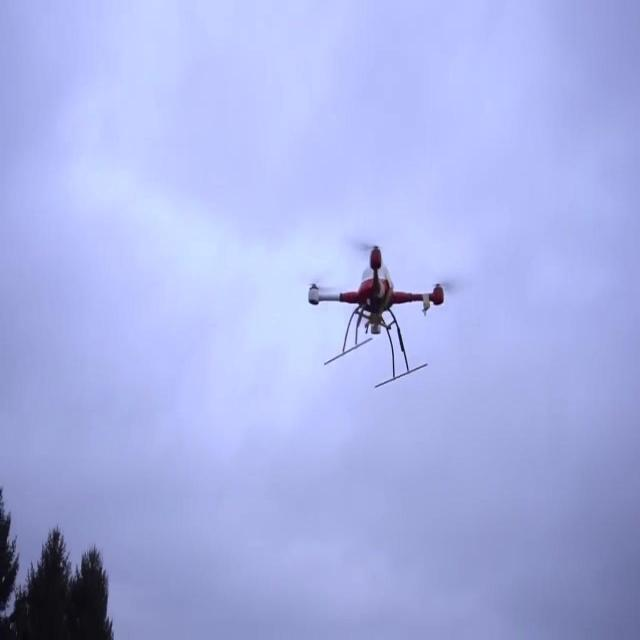drone: (307, 244, 446, 391)
